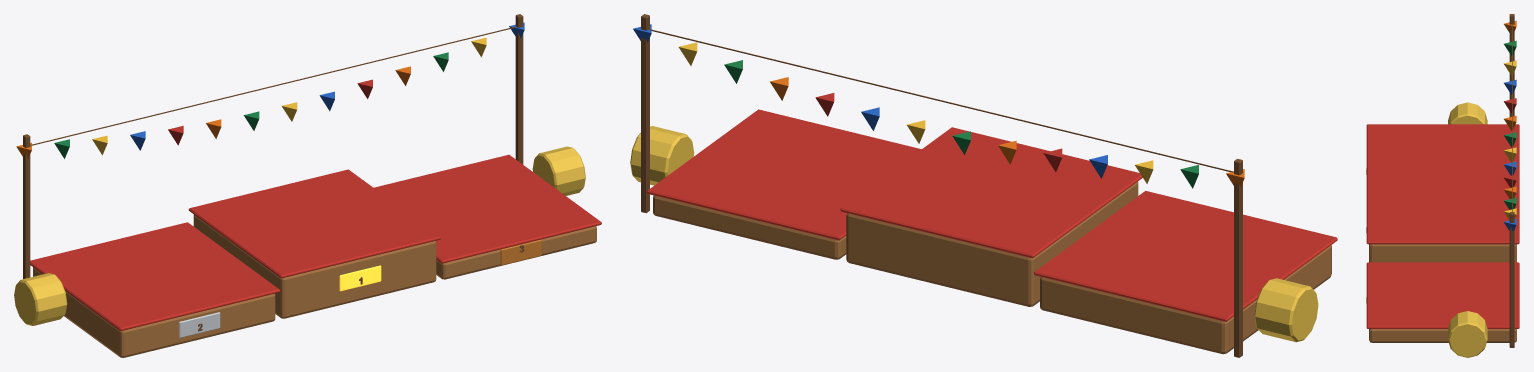
The model's file is podium.glb.
The picture shows the model from 3 angles, left to right: view 1: azimuth 30°, elevation 25°; view 2: azimuth 150°, elevation 25°; view 3: azimuth 270°, elevation 25°; orthographic projection. The views are drawn at different scales.
Visible parts, largest first — view 1: Podium; view 2: Podium; view 3: Podium.
Part boxes in pixels (bbox=[...]): Podium: bbox=[14, 14, 601, 357]; Podium: bbox=[630, 14, 1337, 357]; Podium: bbox=[1366, 14, 1519, 357].
Bounding box in the file's own units: 21.2 × 6 × 6.21.
